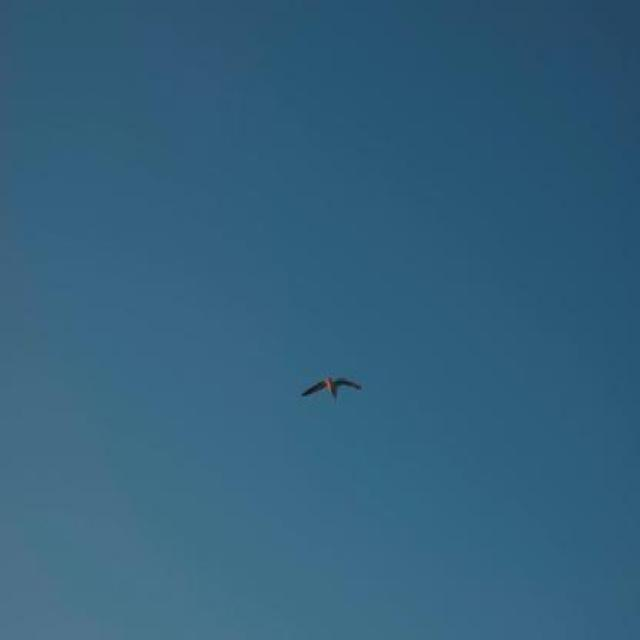bird: (292, 370, 378, 412)
